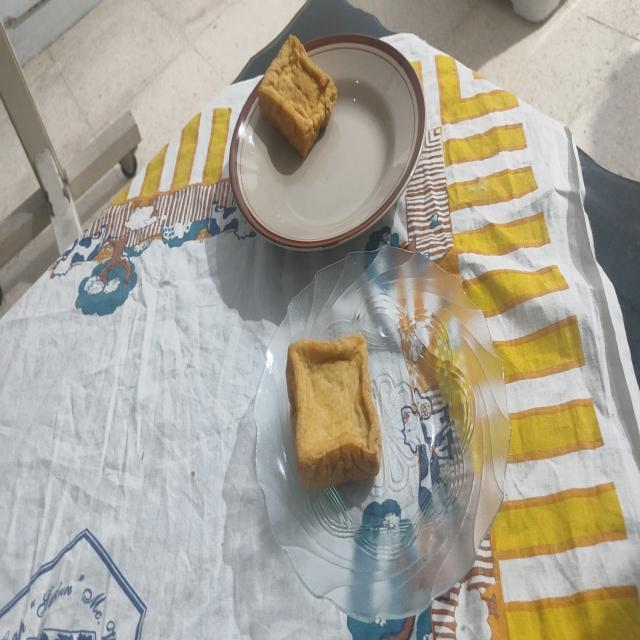tahu_goreng: (286, 334, 382, 488), (258, 34, 336, 158)
